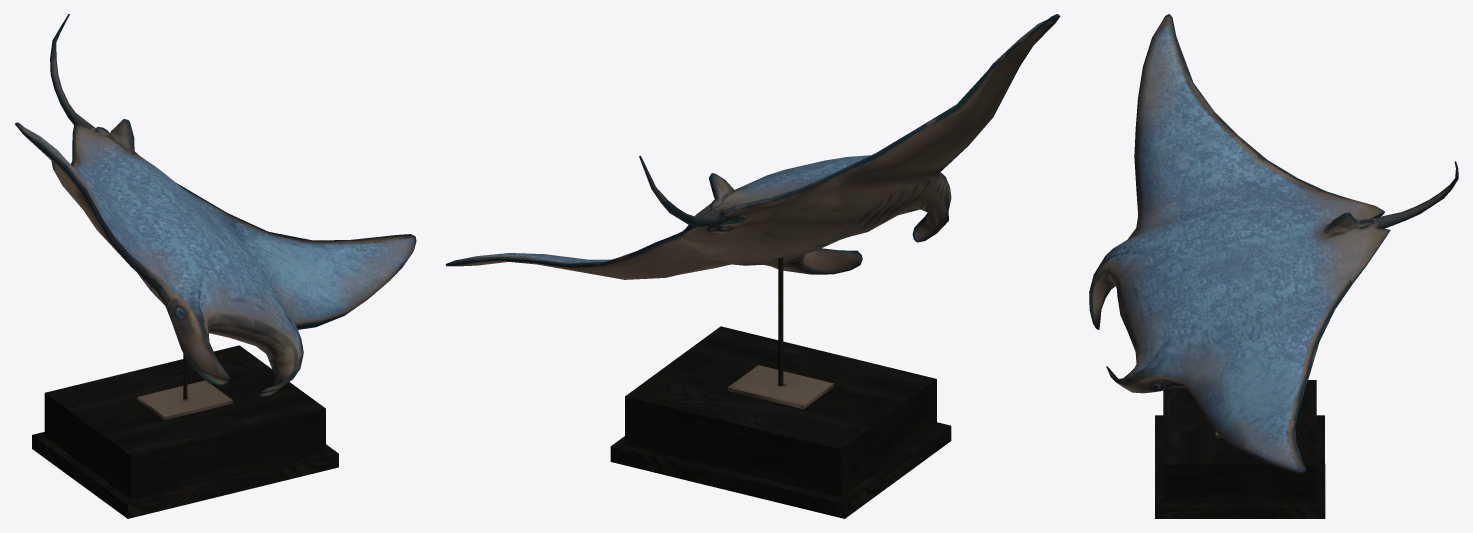
File: statue_ray.glb
3 renders of one model, left to right at view 1: azimuth 30°, elevation 25°; view 2: azimuth 150°, elevation 25°; view 3: azimuth 270°, elevation 25°, orthographic. The views are drawn at different scales.
Parts seen in each view (by area): view 1: statue_ray; view 2: statue_ray; view 3: statue_ray.
Part boxes in pixels (x1,y1,x2,y2): statue_ray: [15, 14, 416, 518]; statue_ray: [445, 14, 1060, 518]; statue_ray: [1089, 14, 1458, 518].
Size of the model in its own units: 0.7075 by 0.5897 by 0.5355.
1 material, 1 textured.
